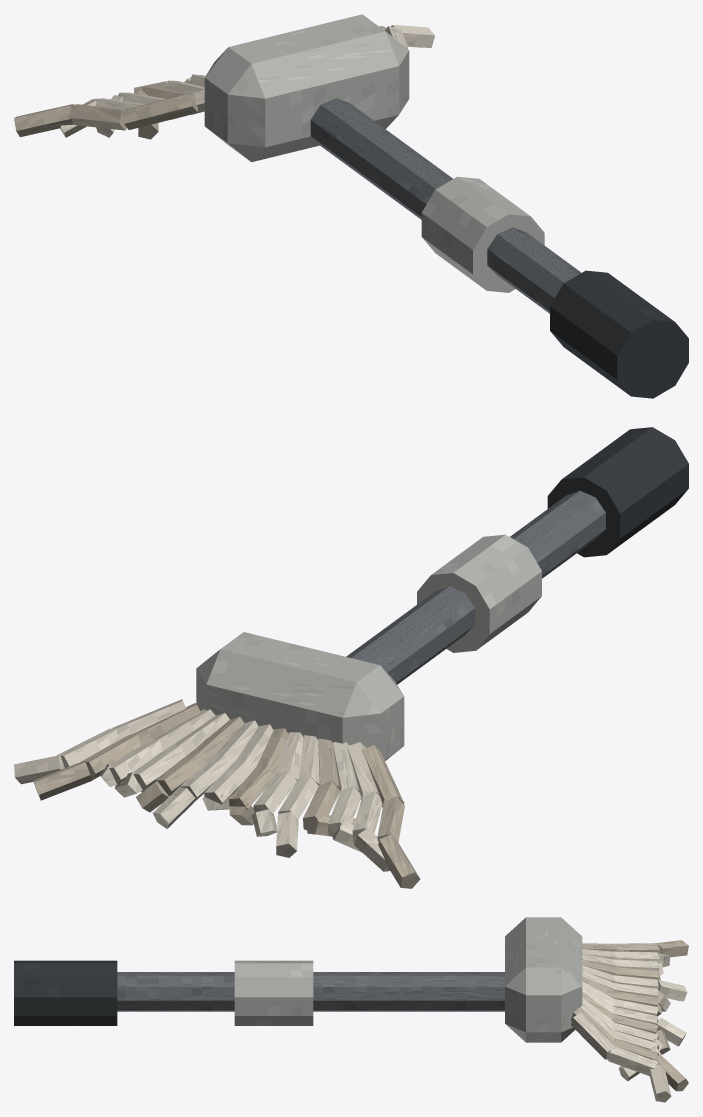
Rendered from mop_folded.glb.
3 renders of one model, top to bottom at view 1: azimuth 30°, elevation 25°; view 2: azimuth 150°, elevation 25°; view 3: azimuth 270°, elevation 25°, orthographic. The views are drawn at different scales.
Parts seen in each view (by area): view 1: block_mop yarn collar, block_collapsed mop tube, block_cap grip, block_locking sleeve, block_loose mop strand 2 (×2), block_loose mop strand 0, block_loose mop strand 1; view 2: block_mop yarn collar, block_loose mop strand 1 (×14), block_loose mop strand 0 (×14), block_collapsed mop tube, block_cap grip, block_locking sleeve, block_loose mop strand 2 (×6); view 3: block_collapsed mop tube, block_mop yarn collar, block_cap grip, block_loose mop strand 1 (×14), block_locking sleeve, block_loose mop strand 2 (×5), block_loose mop strand 0.
Boxes of the visible parts, x1,y1,x2,y2 form: block_mop yarn collar: (204,14,409,162); block_collapsed mop tube: (310,98,581,313); block_cap grip: (550,270,688,398); block_locking sleeve: (421,176,544,292); block_loose mop strand 2 (×2): (14,25,434,137); block_loose mop strand 0: (121,92,197,129); block_loose mop strand 1: (68,104,127,130); block_mop yarn collar: (196,632,404,760); block_loose mop strand 1 (×14): (57,728,404,842); block_loose mop strand 0 (×14): (112,699,404,807); block_collapsed mop tube: (346,491,605,684); block_cap grip: (547,427,688,557); block_locking sleeve: (417,534,541,652); block_loose mop strand 2 (×6): (14,755,420,888); block_collapsed mop tube: (117,972,504,1011); block_mop yarn collar: (505,917,582,1042); block_cap grip: (14,960,117,1025); block_loose mop strand 1 (×14): (608,943,659,1076); block_locking sleeve: (234,960,313,1025); block_loose mop strand 2 (×5): (650,940,688,1102); block_loose mop strand 0: (570,1012,615,1059).
Size of the model in its own units: 0.335 by 0.0902 by 0.63.
1 material, 1 textured.
